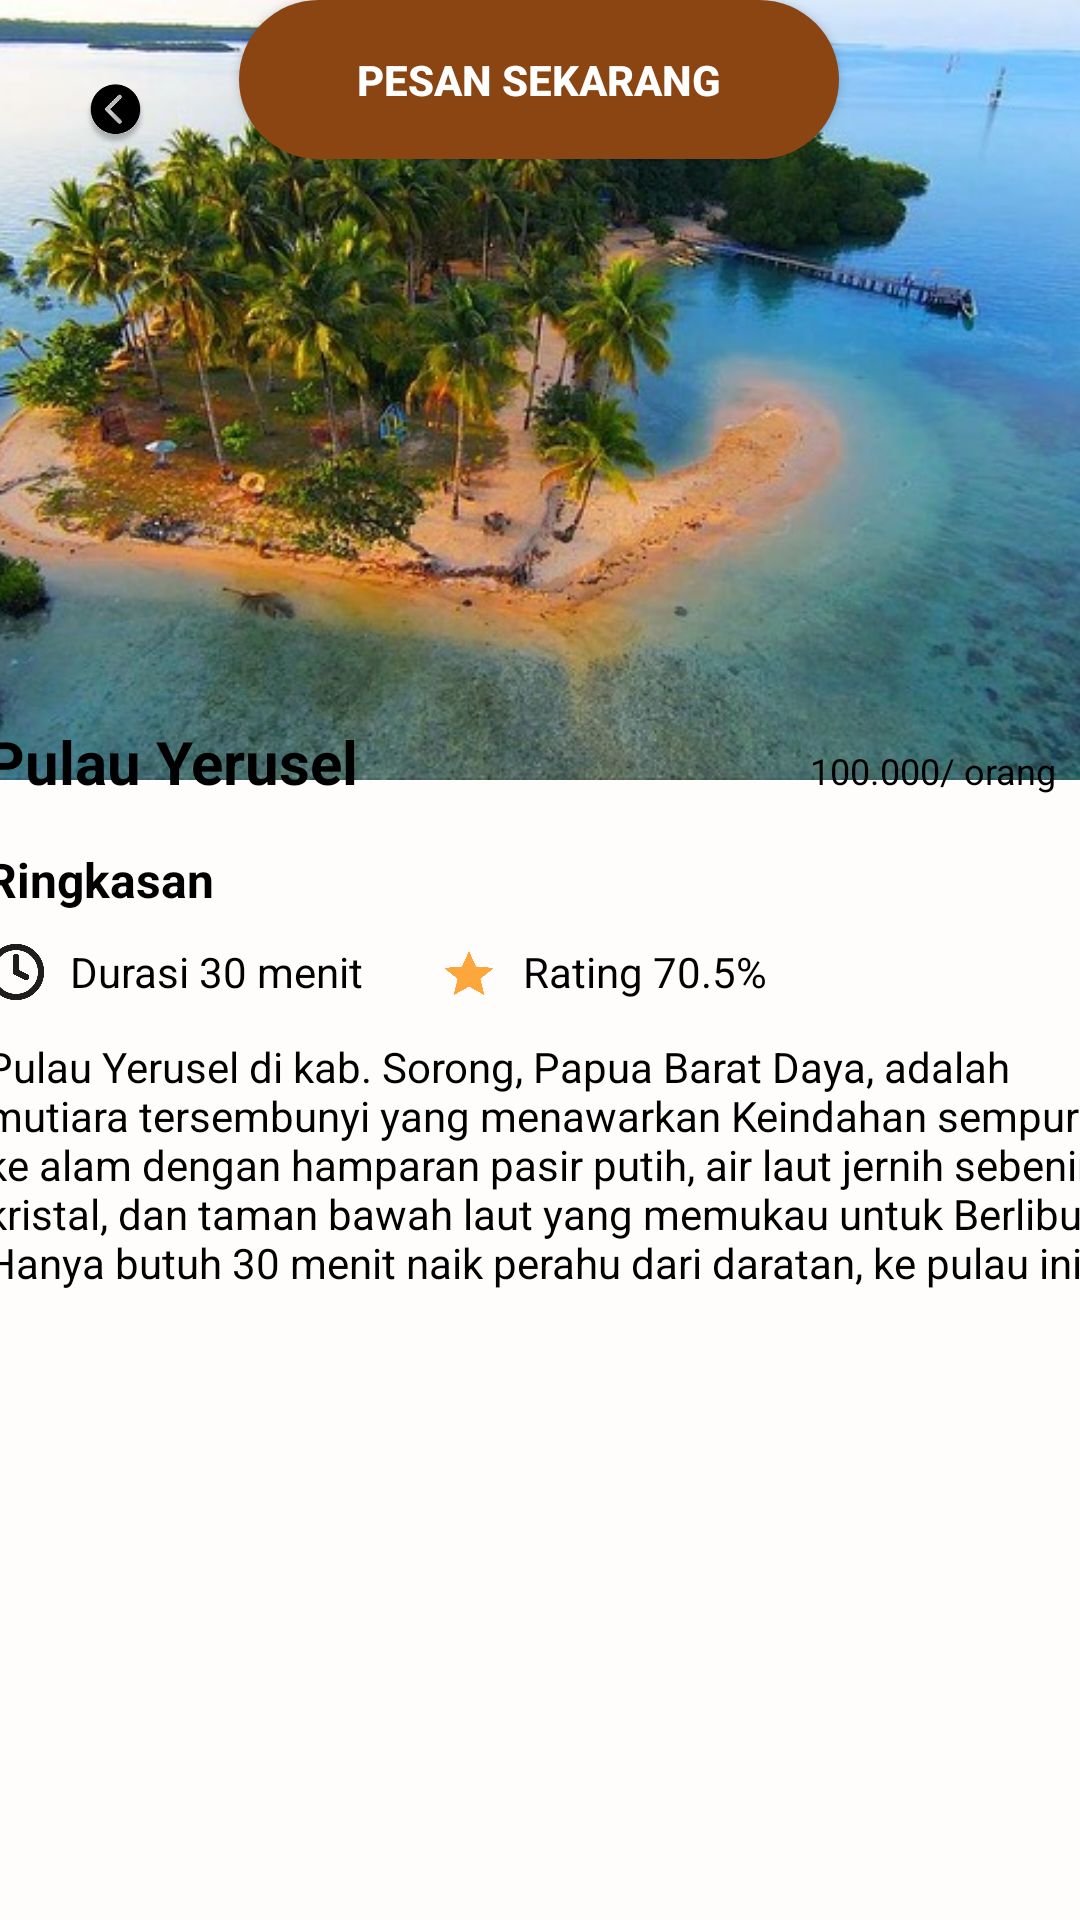

Point at icon controls on the screen. Image size 1080 × 1920, points as point (x, y).
stars: point (469, 973)
